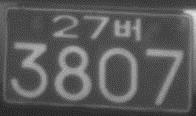0: (97, 46, 138, 104)
2: (51, 14, 80, 39)
3: (9, 41, 48, 98)
7: (145, 47, 183, 105), (82, 15, 109, 39)
8: (53, 44, 91, 102)
버: (114, 17, 141, 41)
